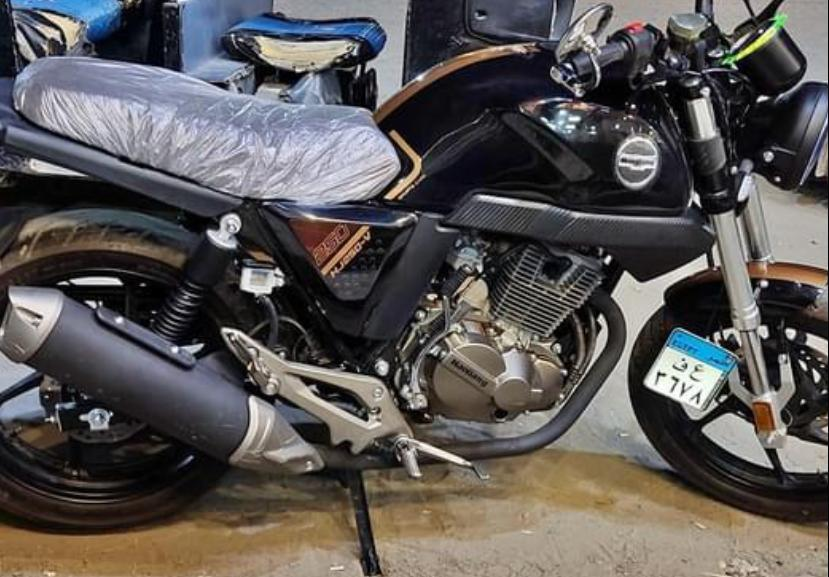License Plate: (645, 330, 738, 413)
